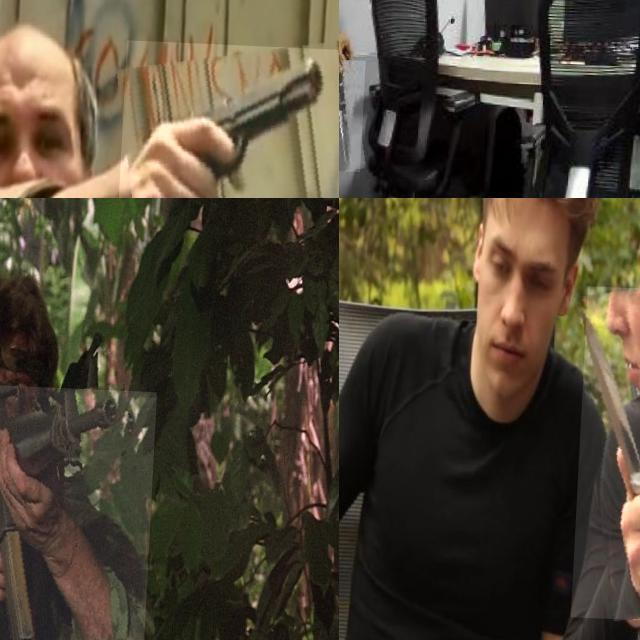-: (576, 283, 640, 618), (339, 56, 371, 168)
gun-knife-thesis - v11 Yolov5 augmented: (0, 380, 159, 640), (118, 37, 339, 198)
